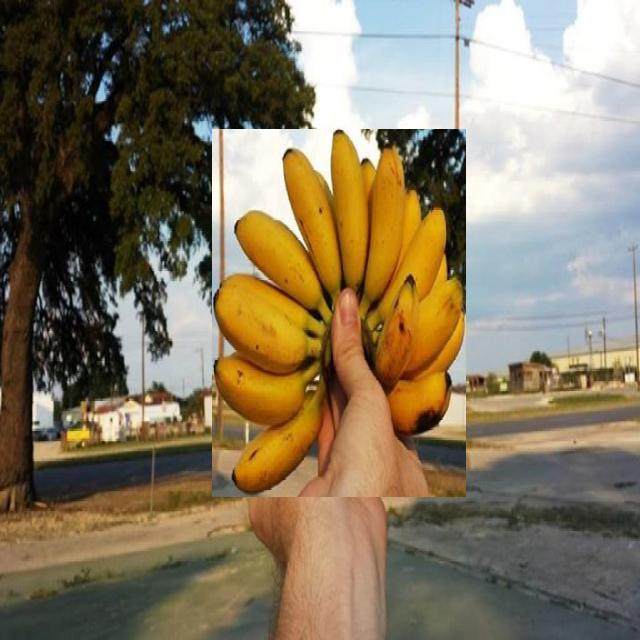Banana: (212, 130, 466, 498)
